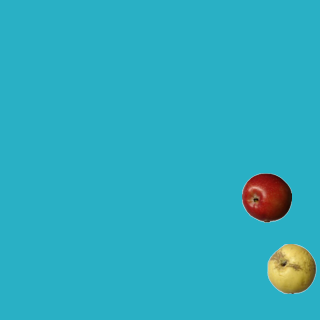Apple Braeburn: (241, 172, 291, 222)
Apple Golden 1: (266, 243, 316, 293)
